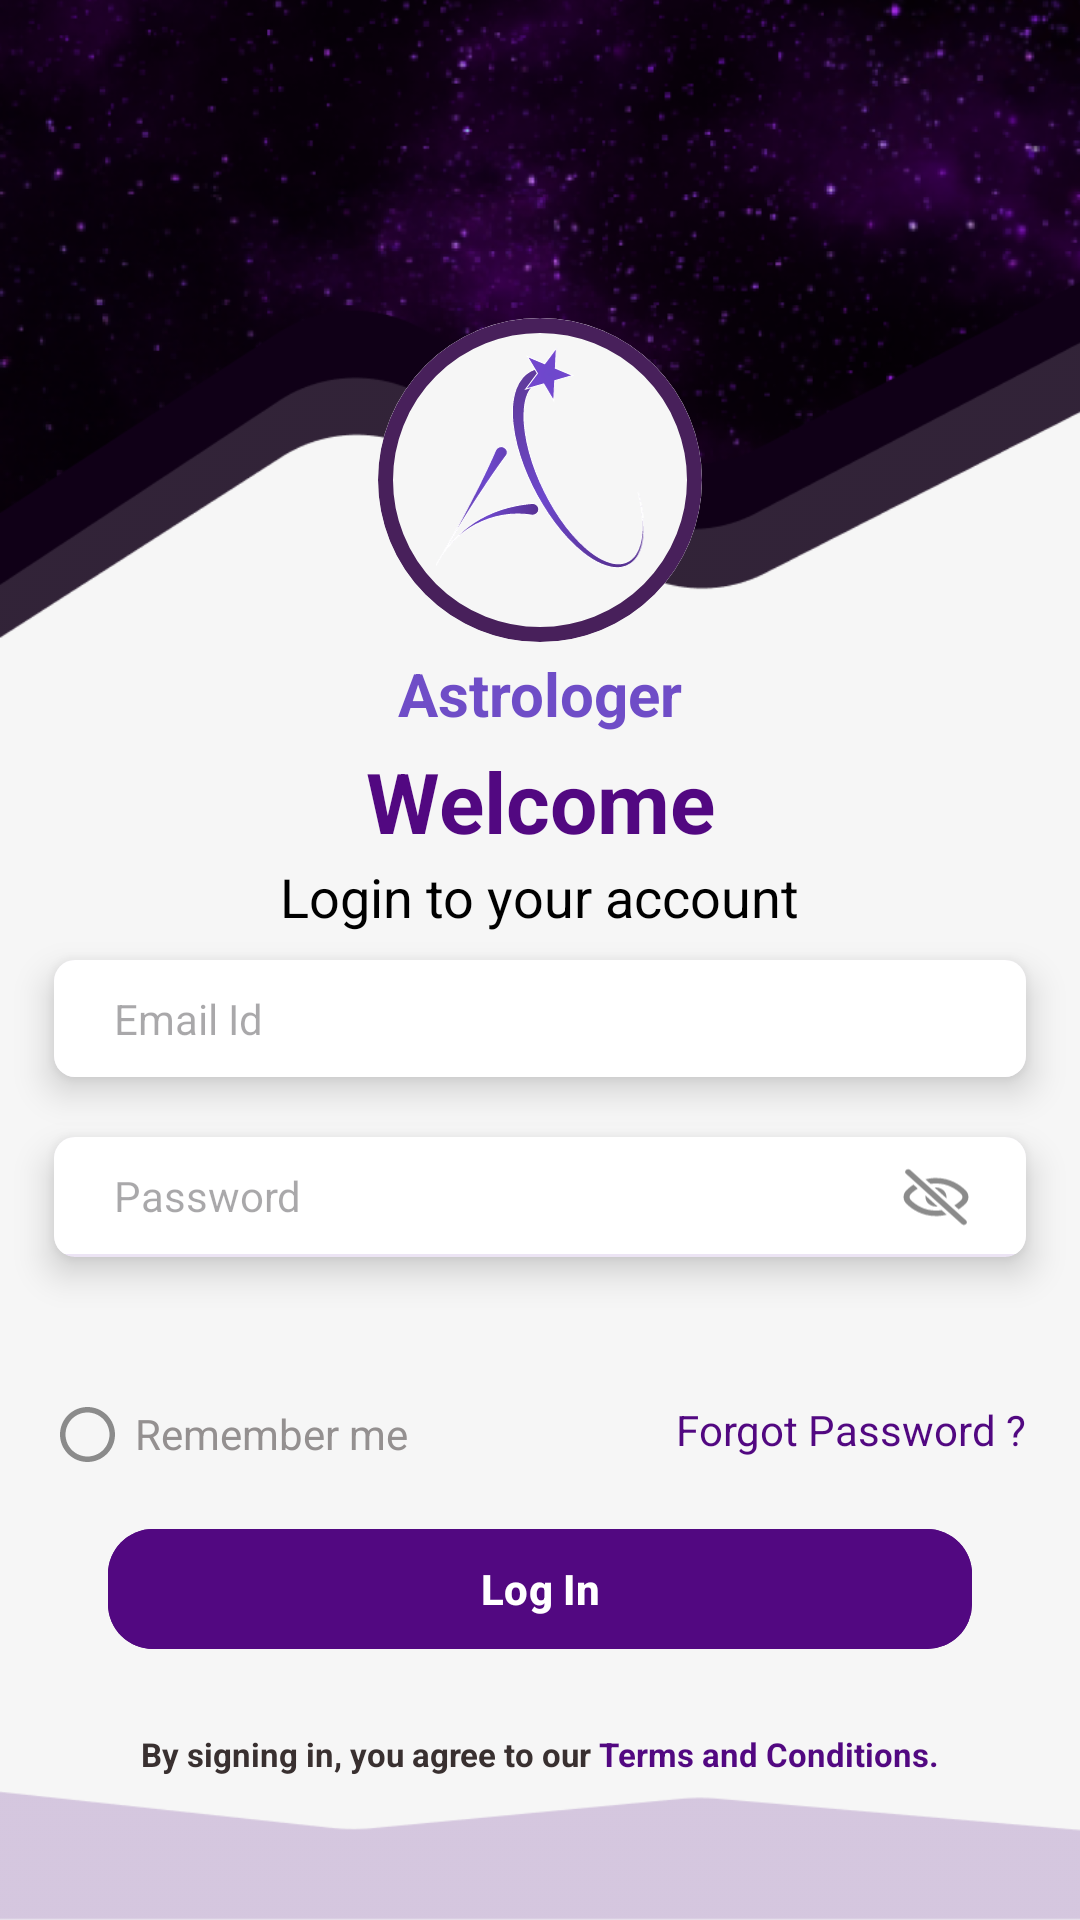

Icon click points for this 1080w x 1920h phone screenshot, format (x,y):
eye login: (936,1197)
